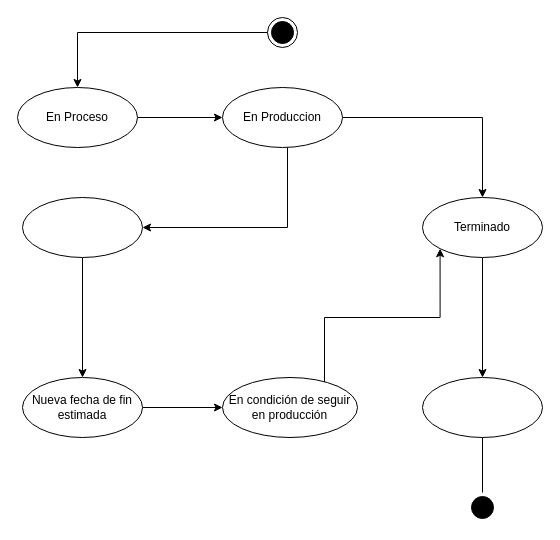
Some shapes in this 560 by 540 pixel diagram are drawn without their labels. Here are the shapes that lost their labels. From the top down, the centre of each, then its label:
At (x=82, y=227): "Atrasado".
At (x=482, y=407): "INSTALADO".
